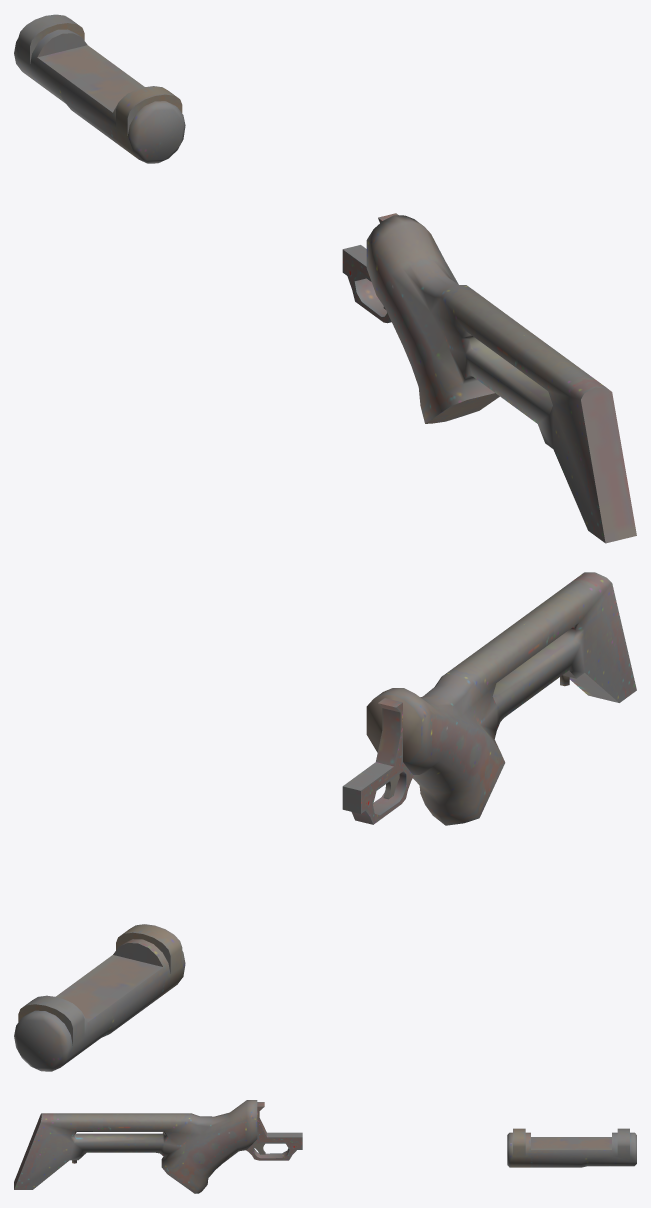
File: grip1.obj
3 renders of one model, top to bottom at view 1: azimuth 30°, elevation 25°; view 2: azimuth 150°, elevation 25°; view 3: azimuth 270°, elevation 25°, orthographic. The views are drawn at different scales.
Visible parts, largest first — view 1: grip1; view 2: grip1; view 3: grip1.
Boxes of the visible parts, x1,y1,x2,y2 form: grip1: [14, 14, 636, 543]; grip1: [14, 572, 636, 1071]; grip1: [14, 1100, 636, 1193].
Size of the model in its own units: 5.18 by 15.27 by 95.62.
